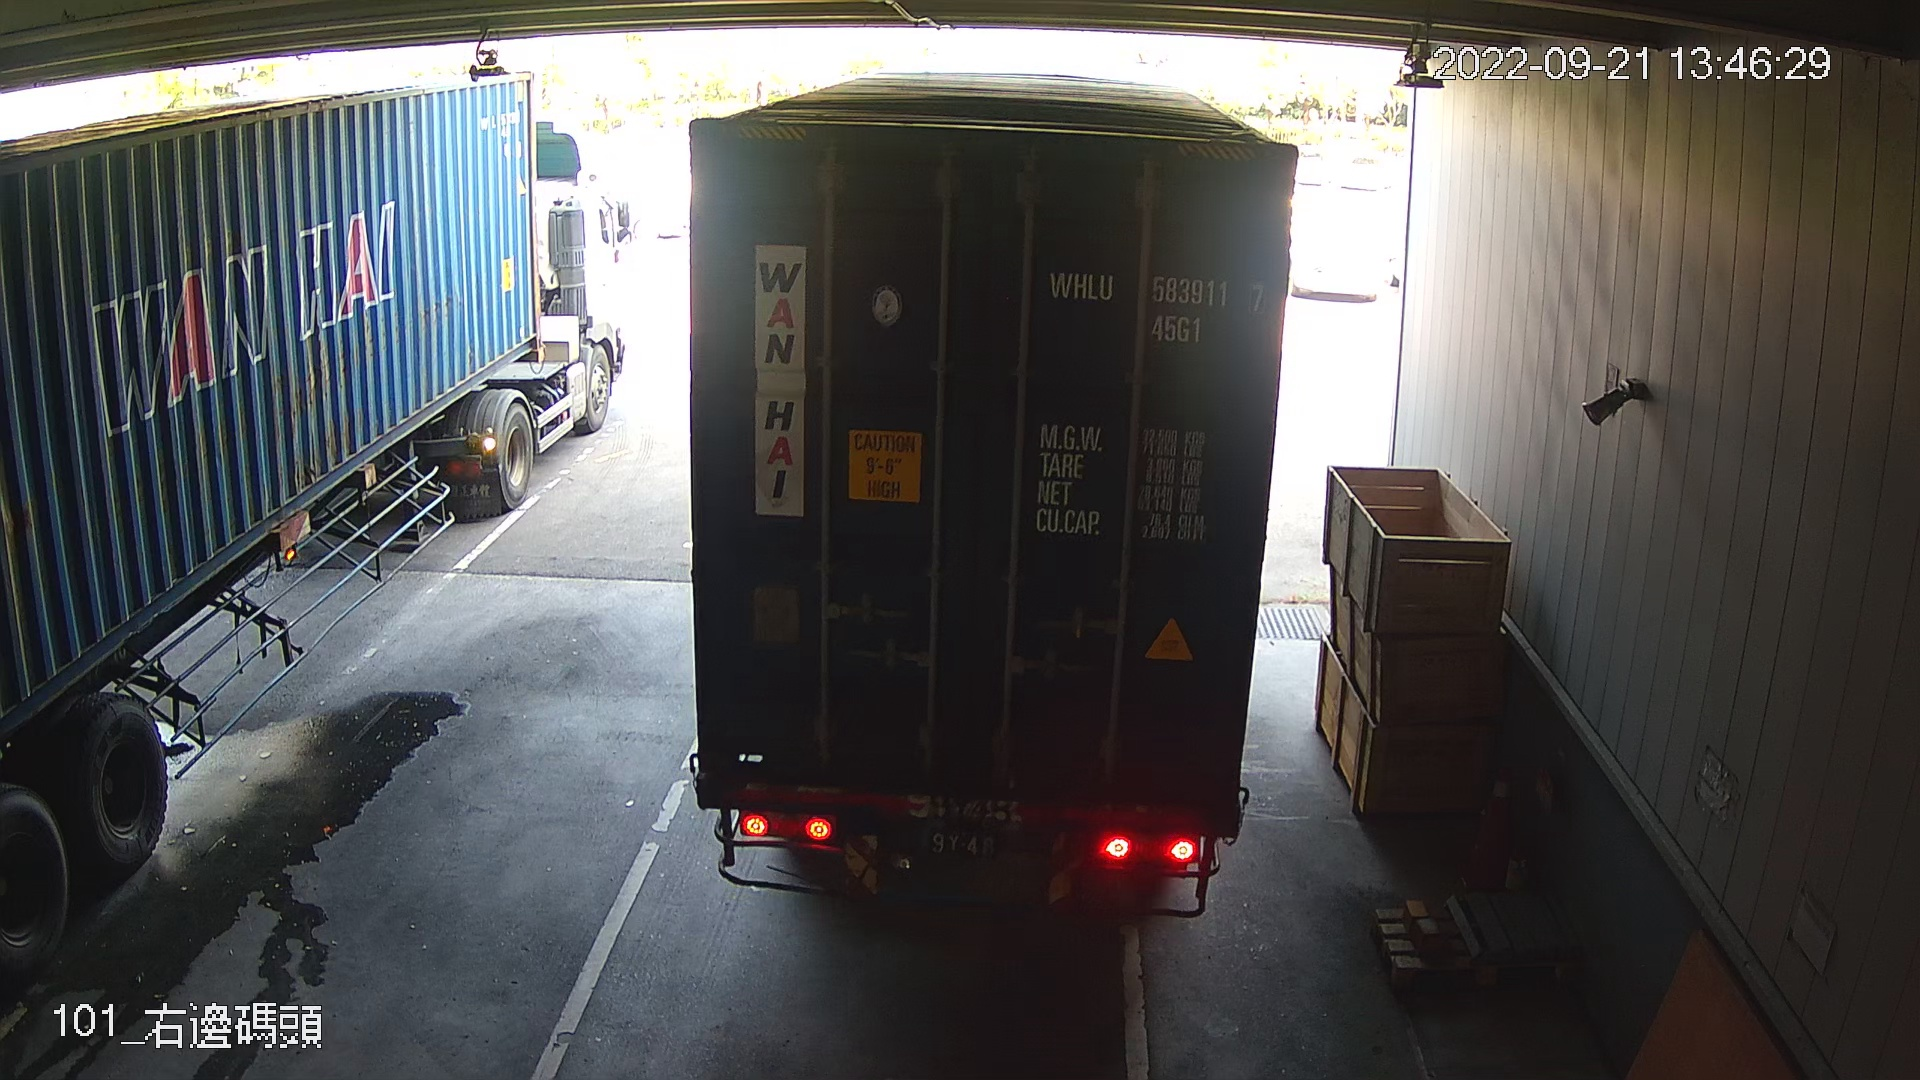container: (1040, 260, 1273, 352)
